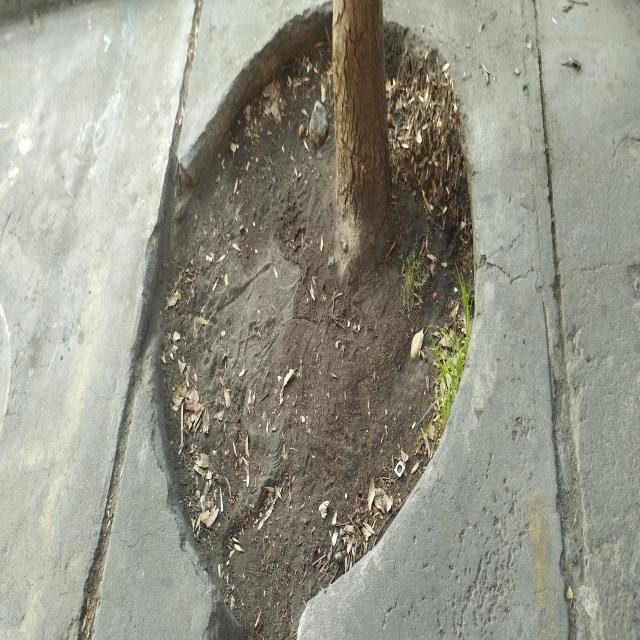hole: (152, 0, 476, 640)
